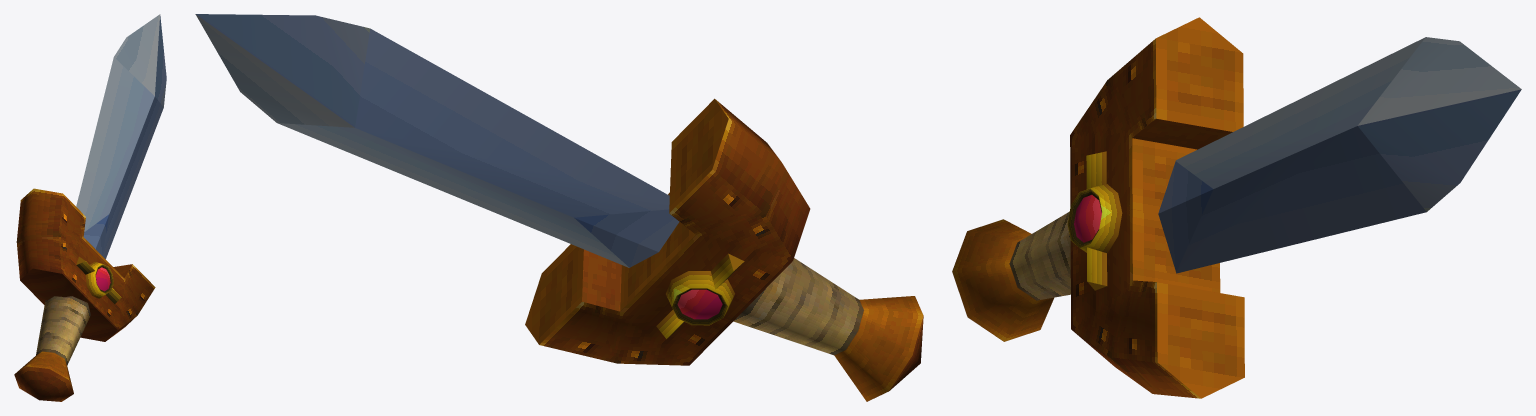
File: Kokiri Sword.dae
The picture shows the model from 3 angles, left to right: view 1: azimuth 30°, elevation 25°; view 2: azimuth 150°, elevation 25°; view 3: azimuth 270°, elevation 25°; orthographic projection. The views are drawn at different scales.
Visible parts, largest first — view 1: node-33165F75, node-0309A6AE, node-0DBCCC88, node-2863399B; view 2: node-0309A6AE, node-33165F75, node-0DBCCC88, node-2863399B; view 3: node-33165F75, node-0309A6AE, node-0DBCCC88, node-2863399B.
Boxes of the visible parts, x1,y1,x2,y2 form: node-33165F75: [14, 188, 155, 401]; node-0309A6AE: [76, 14, 166, 259]; node-0DBCCC88: [76, 256, 121, 303]; node-2863399B: [96, 267, 110, 291]; node-0309A6AE: [195, 14, 679, 267]; node-33165F75: [525, 98, 923, 401]; node-0DBCCC88: [656, 253, 744, 338]; node-2863399B: [677, 289, 722, 319]; node-33165F75: [952, 17, 1244, 398]; node-0309A6AE: [1158, 37, 1521, 273]; node-0DBCCC88: [1067, 151, 1122, 290]; node-2863399B: [1074, 195, 1101, 242].
Size of the model in its own units: 3.97 by 3.67 by 3.39.
1 material, 1 textured.
